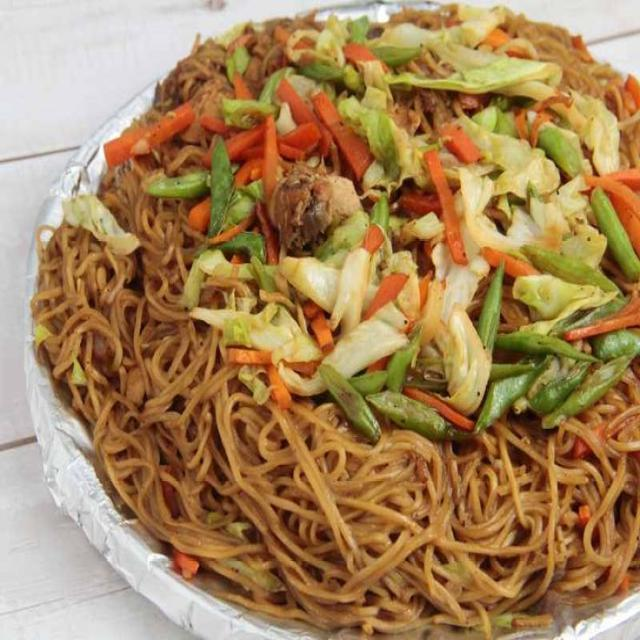pancit bihon: (24, 14, 640, 634)
